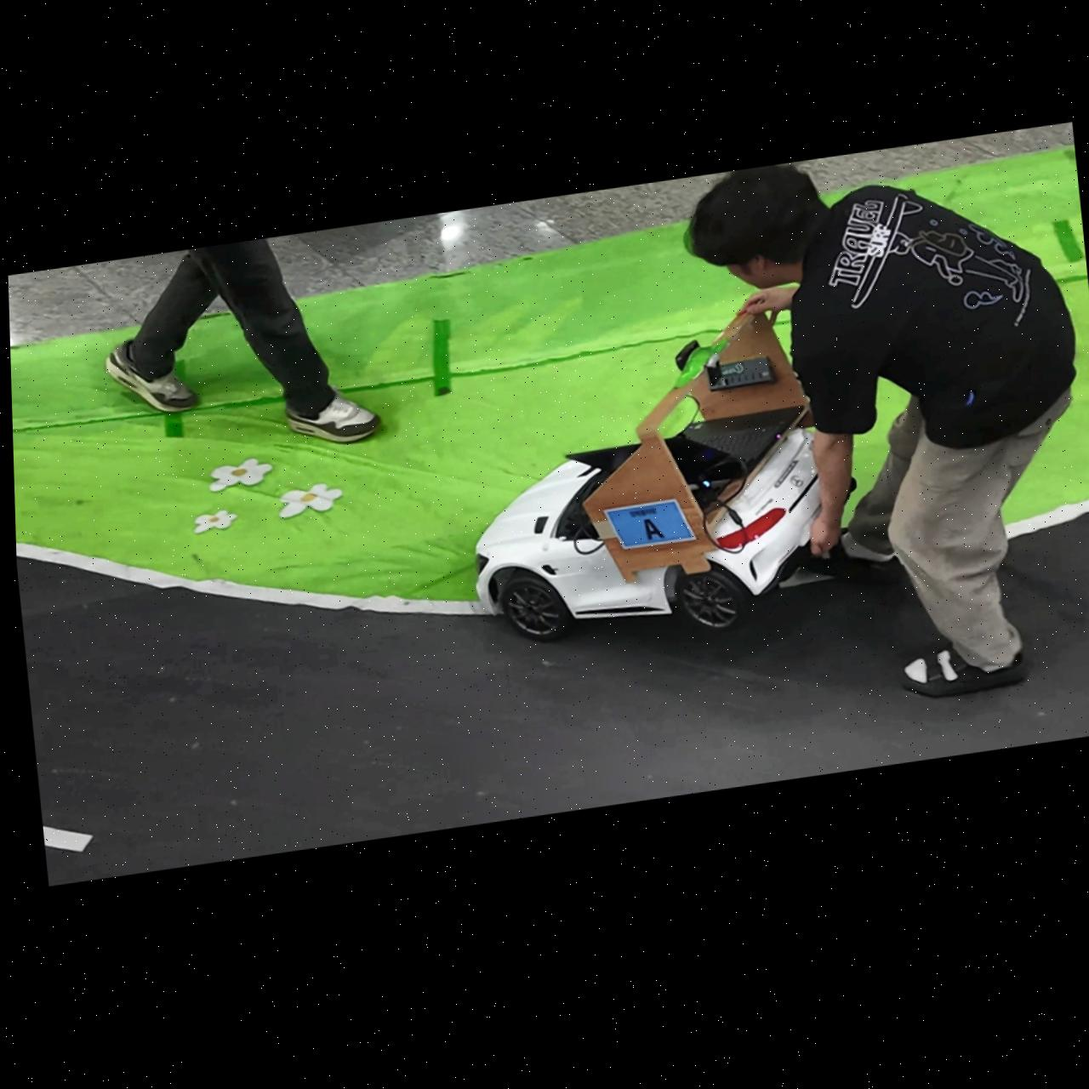broken_line: (43, 826, 93, 852)
